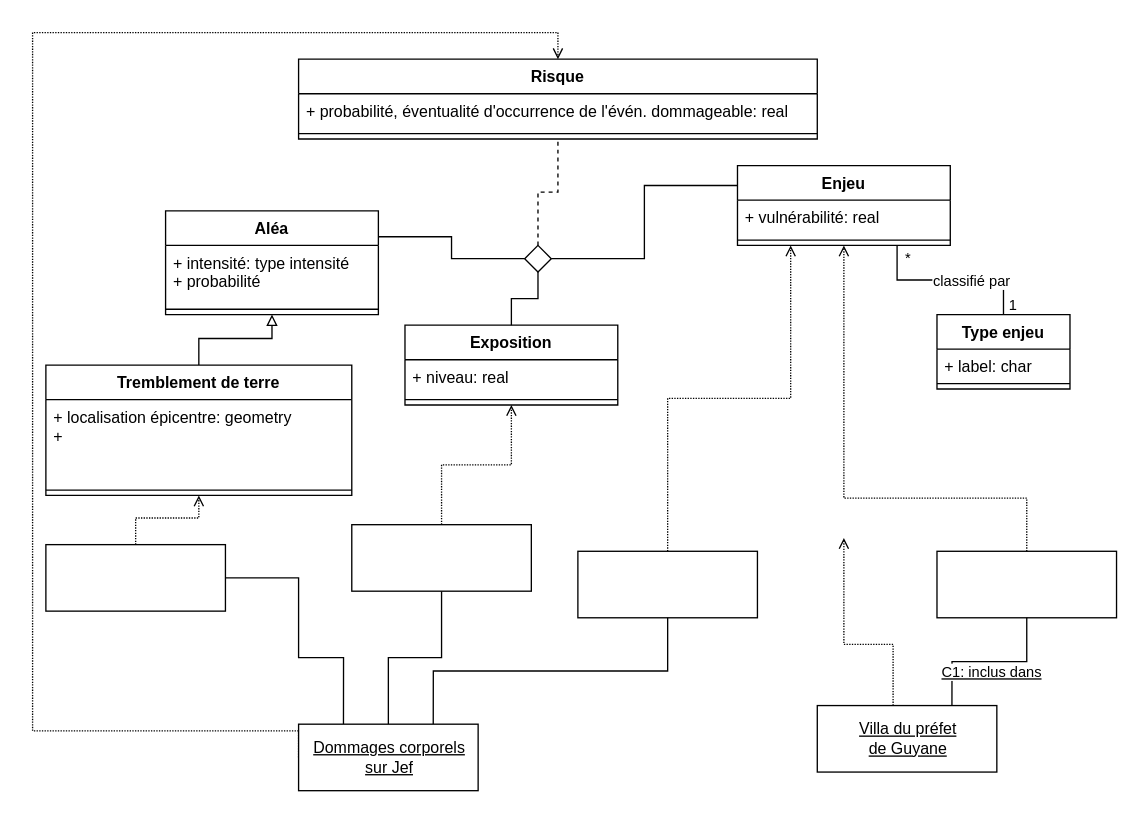
Some shapes in this 1140 by 814 pixel diagram are drawn without their labels. The centre of each missing label's shape, as x and y in pixels:
"Infrastructures Ville de Cayenne" belongs at (x=1026, y=584).
"Jef" belongs at (x=667, y=584).
"Jef présent sur sol Guyanais le 08/06/2006" belongs at (x=440, y=557).
"tremblement de terre 08/06/2006, Guyane" belongs at (x=135, y=577).
